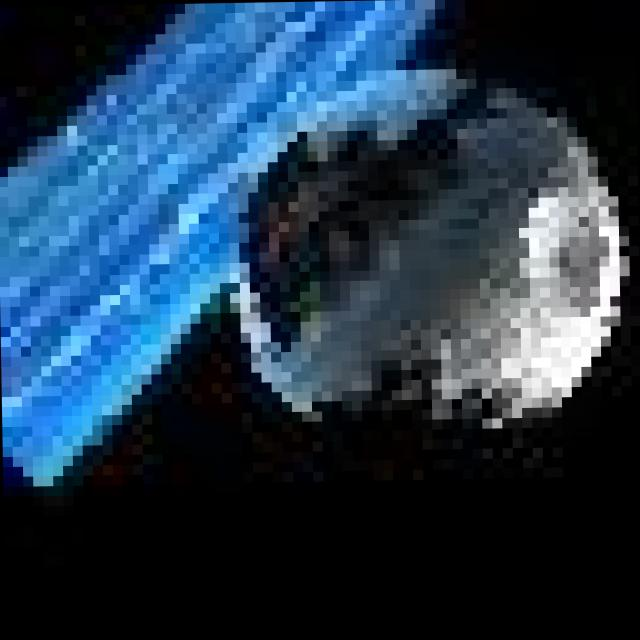Death Star: (233, 54, 622, 466)
